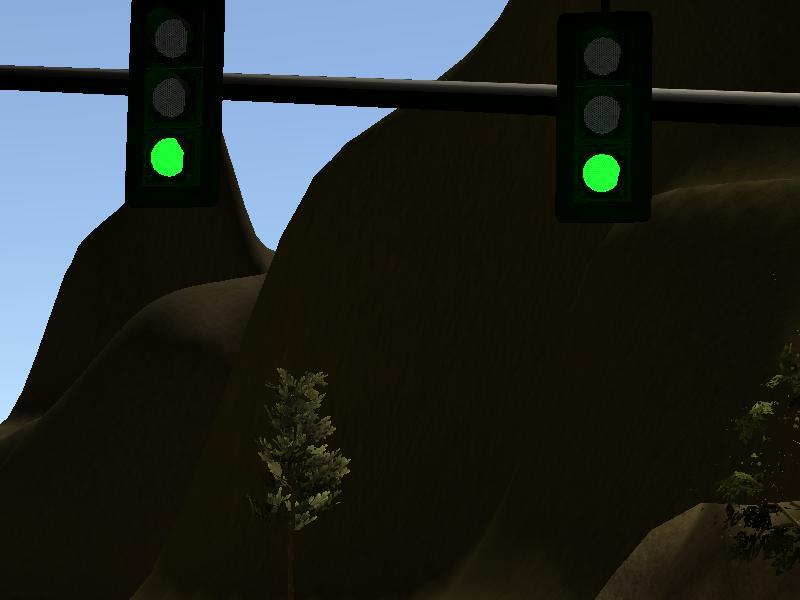Green: (556, 10, 650, 222), (129, 1, 220, 208)
